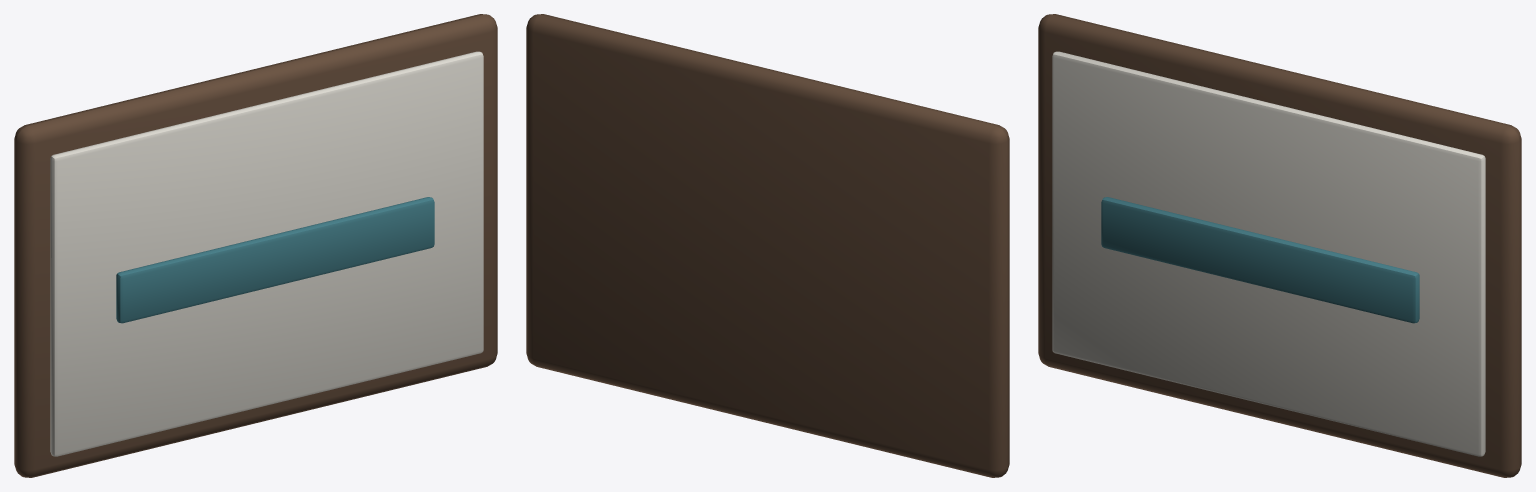
Rendered from art_large.glb.
3 views of the same model, side by side, from view 1: azimuth 30°, elevation 25°; view 2: azimuth 150°, elevation 25°; view 3: azimuth 330°, elevation 25° (orthographic).
Parts seen in each view (by area): view 1: canvas, frame, stroke; view 2: frame; view 3: canvas, frame, stroke.
Part boxes in pixels (x1,y1,x2,y2): canvas: (50,51,483,456); frame: (14,14,497,477); stroke: (116,197,434,323); frame: (526,14,1009,477); canvas: (1052,51,1485,456); frame: (1038,14,1521,477); stroke: (1101,197,1419,323).
Size of the model in its own units: 0.5 by 0.35 by 0.0525.
